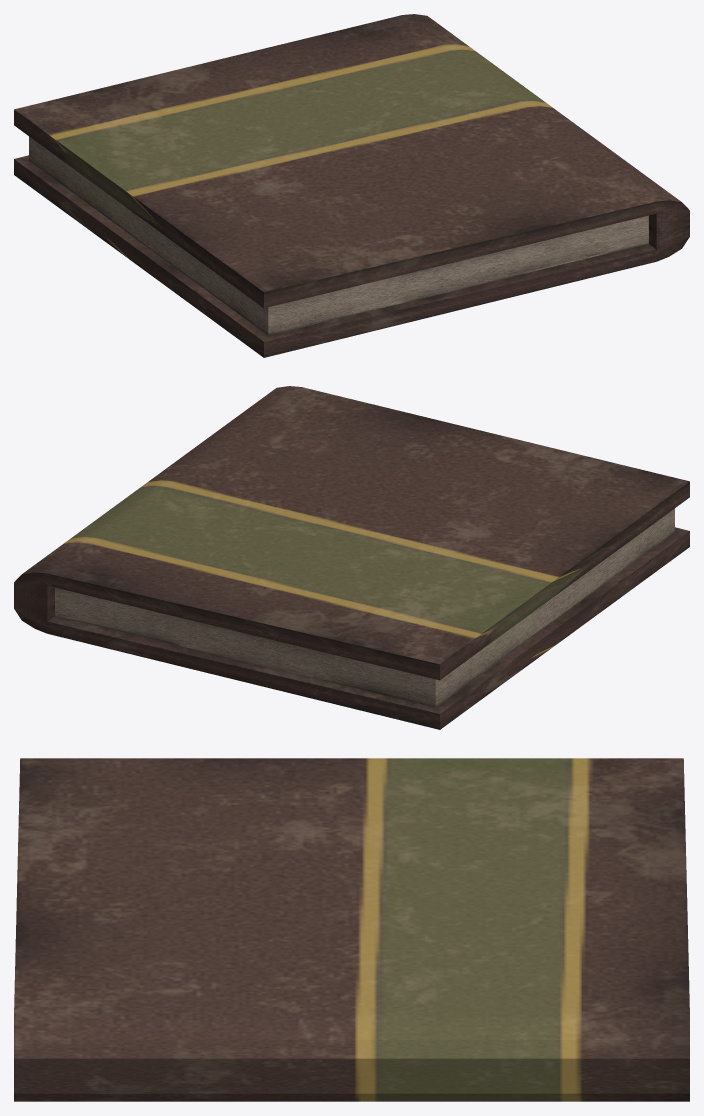
The model's file is Book_Thin1.fbx.
3 views of the same model, one above another, from view 1: azimuth 30°, elevation 25°; view 2: azimuth 150°, elevation 25°; view 3: azimuth 270°, elevation 25° (orthographic). The views are drawn at different scales.
Visible parts, largest first — view 1: Cube.003; view 2: Cube.003; view 3: Cube.003.
Part boxes in pixels (x1,y1,x2,y2): Cube.003: (14,14,689,357); Cube.003: (14,386,689,729); Cube.003: (14,758,689,1101).
Size of the model in its own units: 1243 by 184 by 1294.
